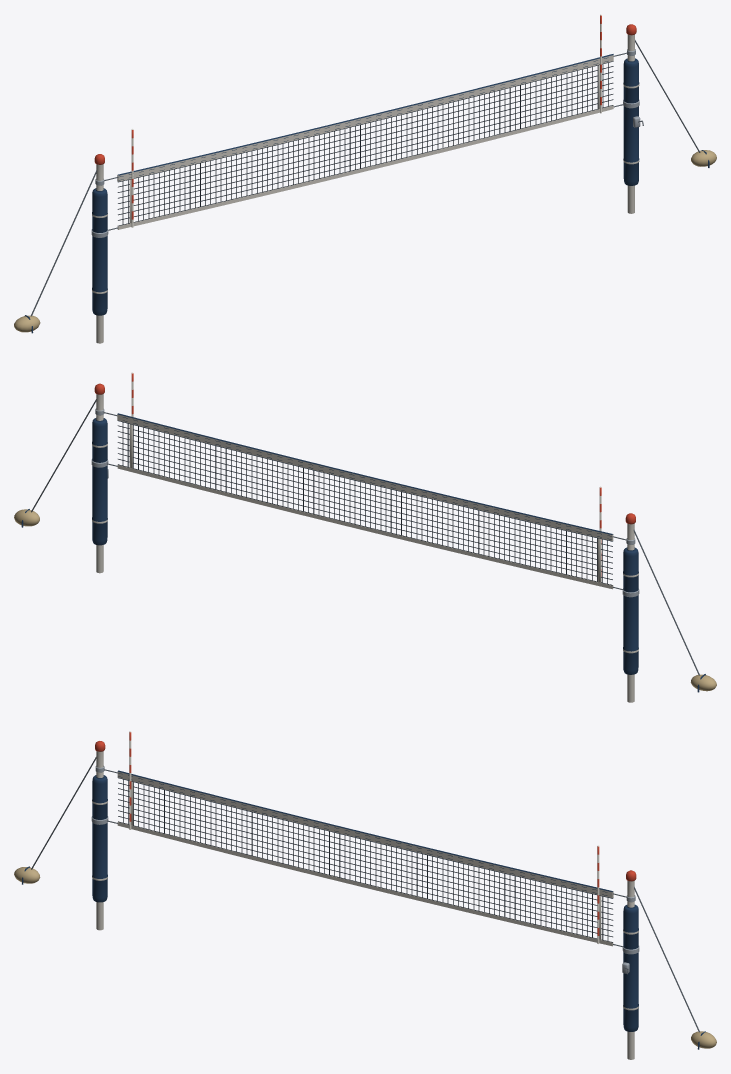
The model's file is volleyball-net-hd.glb.
The picture shows the model from 3 angles, top to bottom: view 1: azimuth 30°, elevation 25°; view 2: azimuth 150°, elevation 25°; view 3: azimuth 330°, elevation 25°; orthographic projection.
Visible parts, largest first — view 1: volleyball-net-hd; view 2: volleyball-net-hd; view 3: volleyball-net-hd.
Part boxes in pixels (box(x1,y1,x2,y2)): volleyball-net-hd: box(14, 14, 716, 343); volleyball-net-hd: box(14, 372, 716, 702); volleyball-net-hd: box(14, 731, 716, 1059).
Size of the model in its own units: 12.09 by 3.4 by 0.4055.
